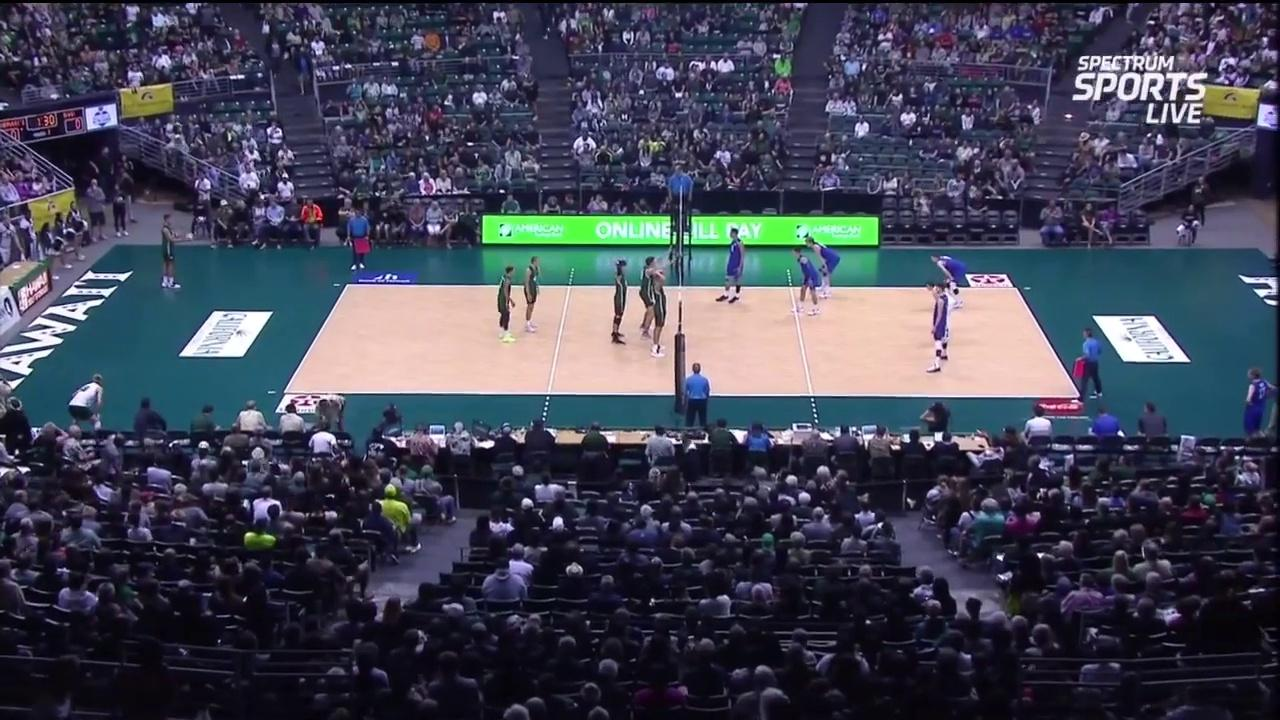player: (799, 236, 841, 303), (606, 252, 634, 348), (929, 250, 974, 309), (156, 210, 186, 291), (520, 252, 546, 336), (646, 268, 668, 364), (722, 226, 748, 306), (794, 245, 821, 316), (493, 263, 517, 341), (929, 285, 948, 372), (641, 251, 659, 341), (922, 281, 955, 325)
refree: (1076, 327, 1104, 402), (680, 361, 713, 423), (344, 202, 370, 271), (668, 164, 693, 230)
